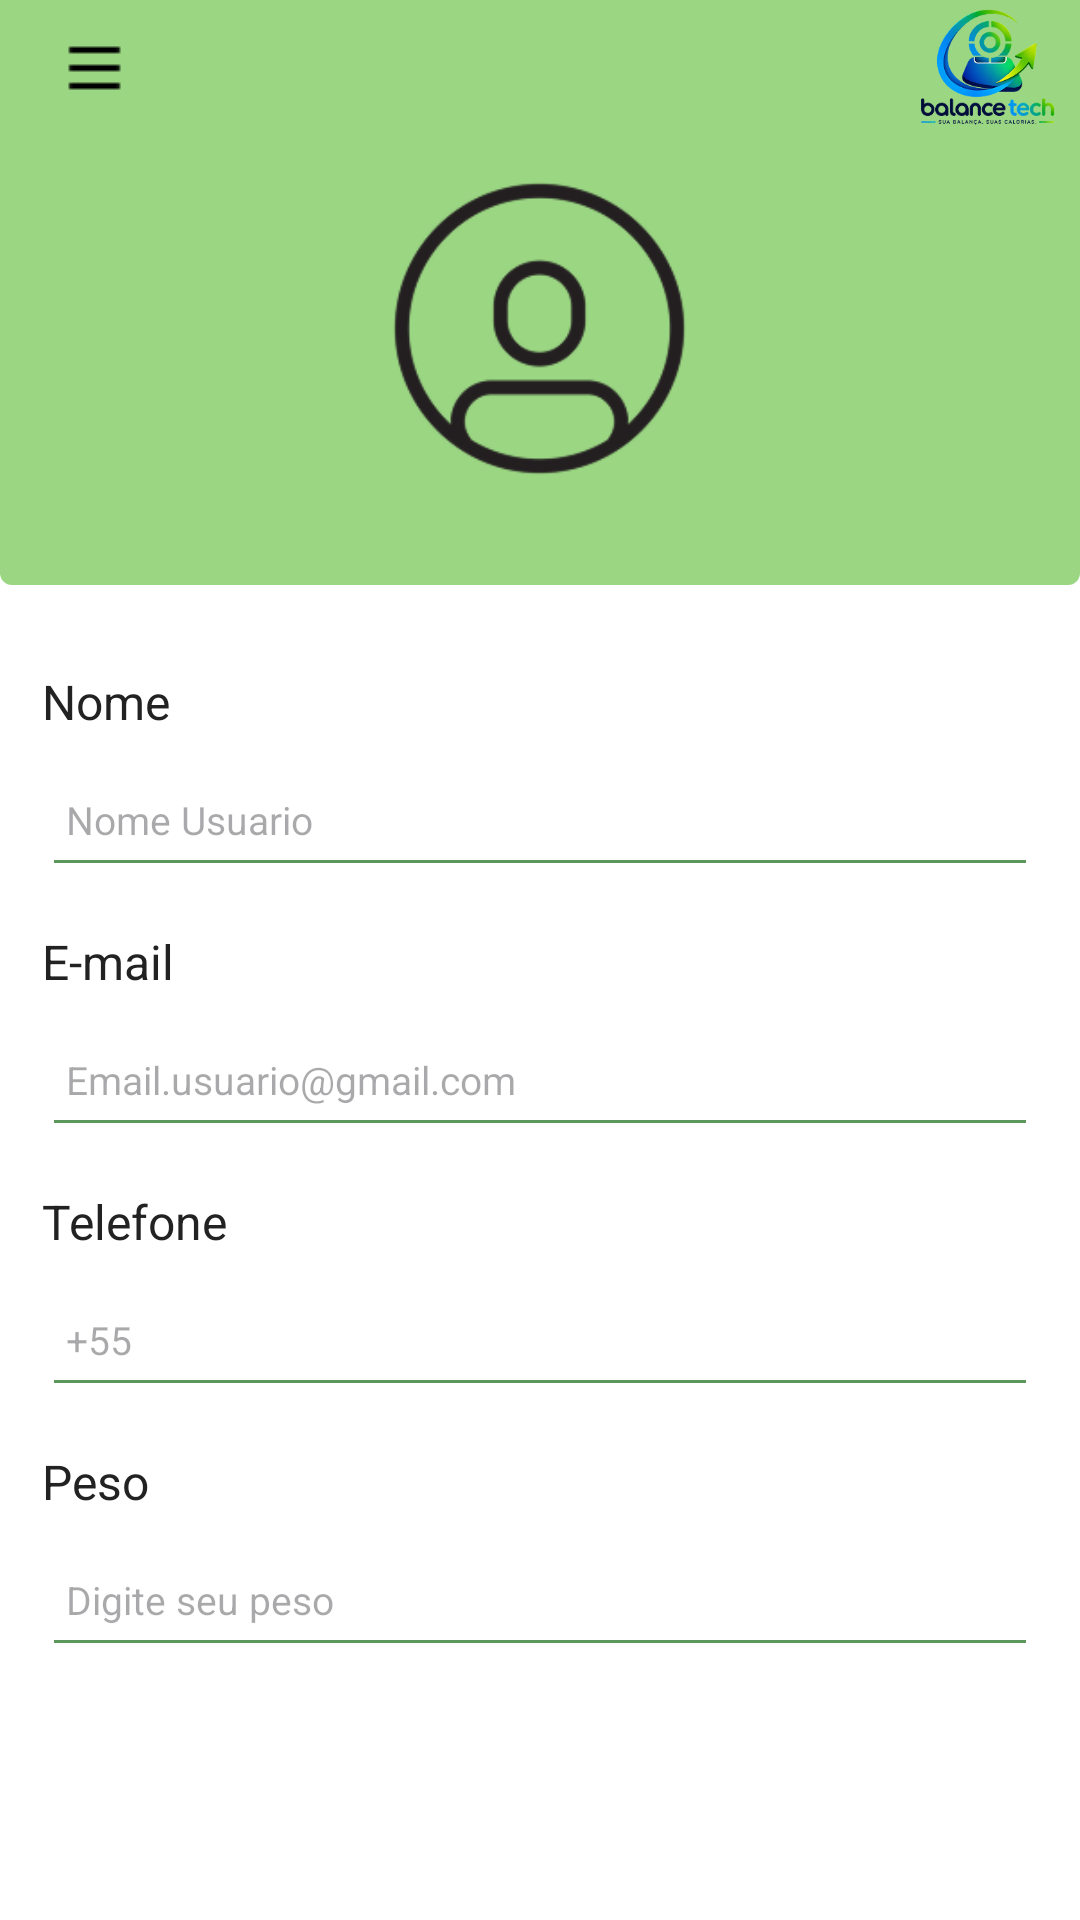

Locate icon controls on the screen. Image size 1080*1920, boxes as (x1, y1, x2, y2).
Imagem do perfil: (394, 183, 685, 474)
Menu: (68, 46, 121, 90)
